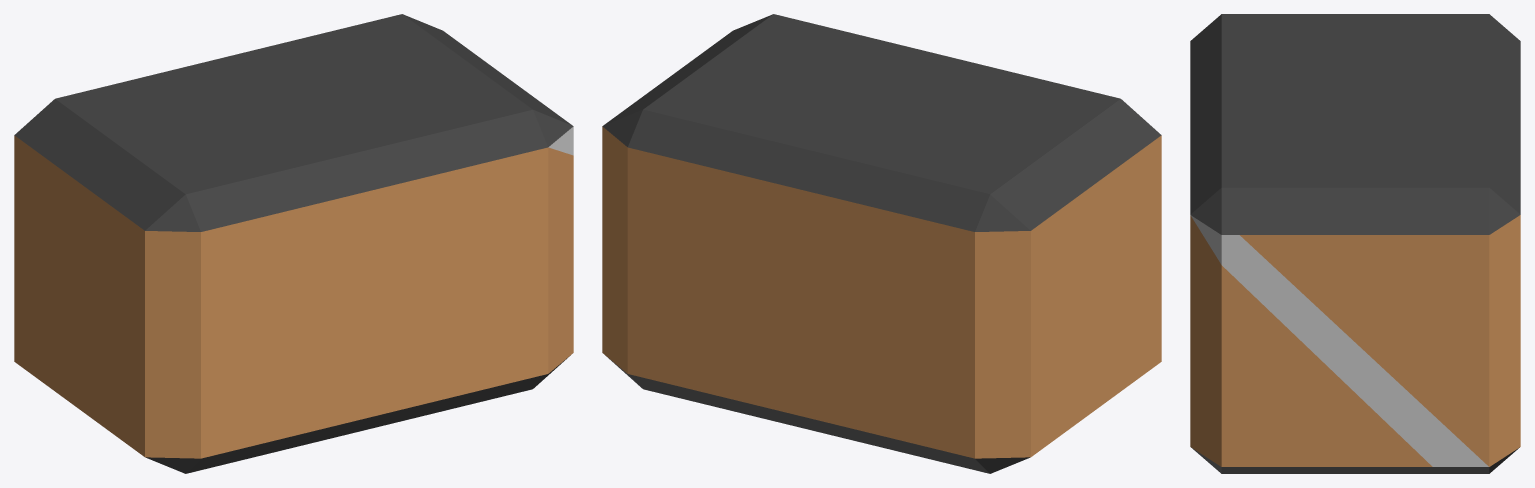
Rendered from SmallCase1.fbx.
3 renders of one model, left to right at view 1: azimuth 30°, elevation 25°; view 2: azimuth 150°, elevation 25°; view 3: azimuth 270°, elevation 25°, orthographic. The views are drawn at different scales.
Parts seen in each view (by area): view 1: Cube.039; view 2: Cube.039; view 3: Cube.039.
Part boxes in pixels (left/top/right/bottom): Cube.039: left=14, top=14, right=573, bottom=473; Cube.039: left=602, top=14, right=1161, bottom=473; Cube.039: left=1190, top=14, right=1520, bottom=473.
Size of the model in its own units: 72.28 by 45.05 by 47.11.
